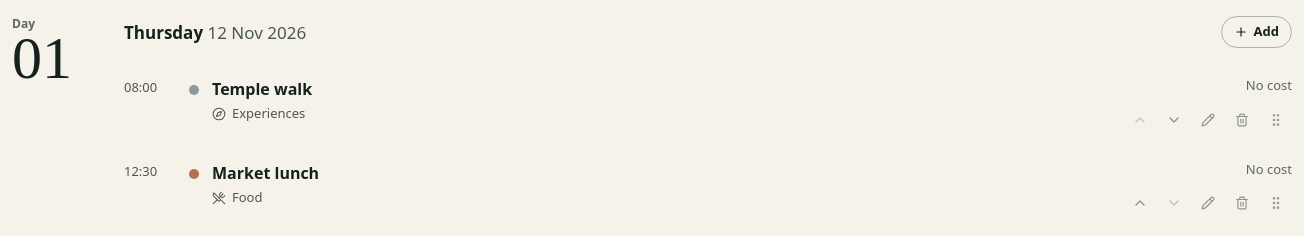
Test: itinerary reorder feedback › keeps focus on the move button and highlights the moved activity once the server confirms
Click the button named "Move Market lunch earlier" at (1140, 203), box [1124, 187, 1156, 219]
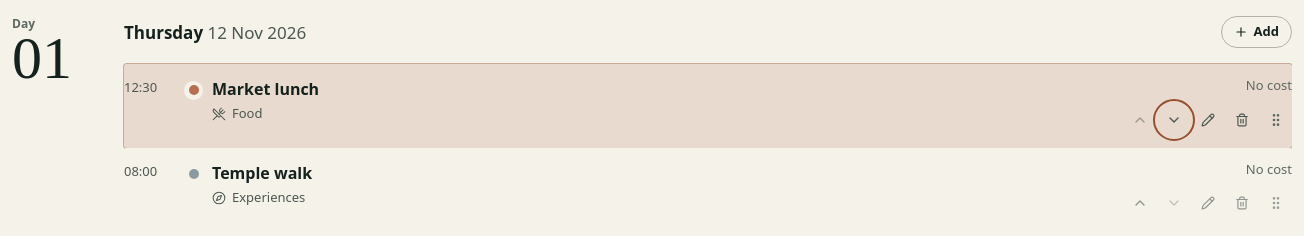
Expected: the button named "Move Market lunch earlier" is disabled, [1124, 104, 1156, 136]
